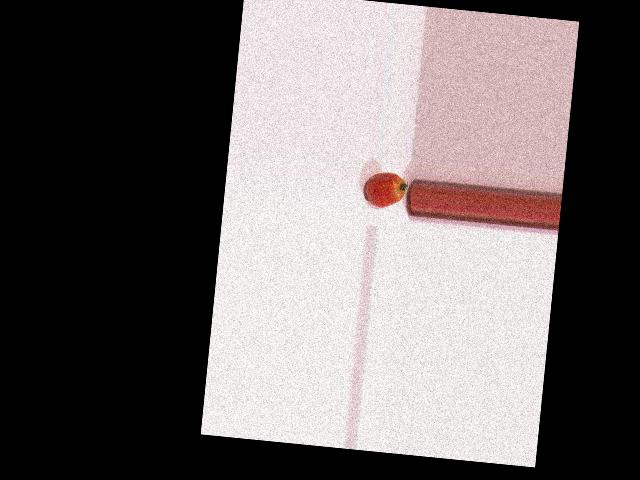tomato: (364, 171, 407, 209)
